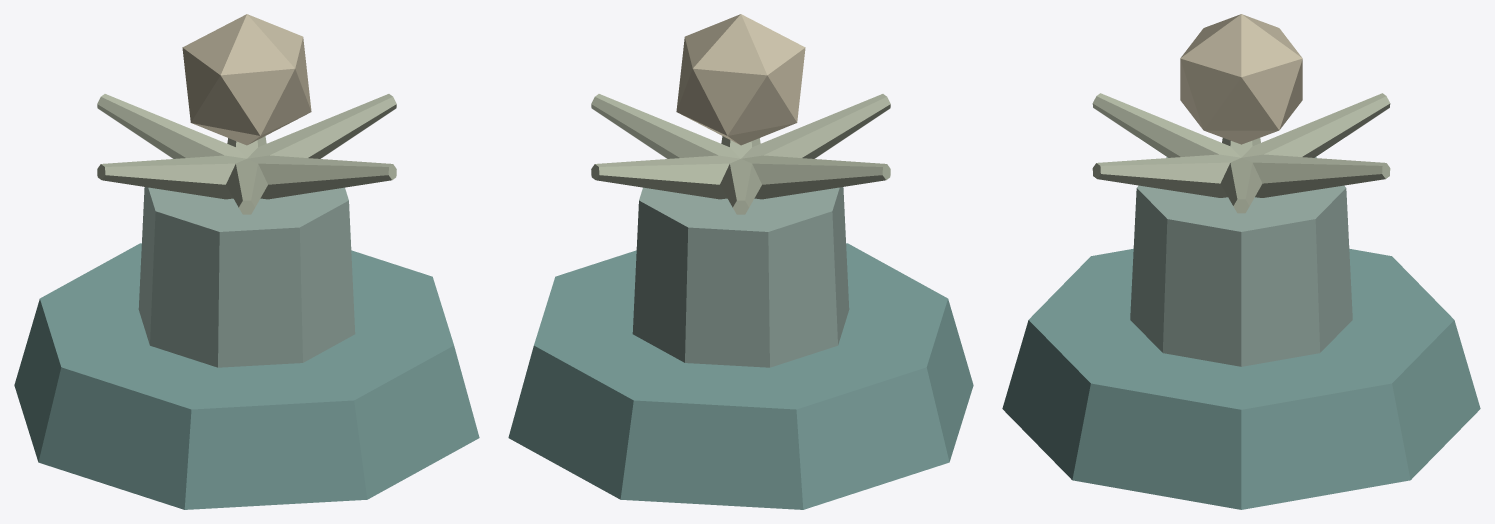
The model's file is map-exclusive-v3__tide_05.glb.
3 renders of one model, left to right at view 1: azimuth 30°, elevation 25°; view 2: azimuth 150°, elevation 25°; view 3: azimuth 270°, elevation 25°, orthographic.
Visible parts, largest first — view 1: tide_05; view 2: tide_05; view 3: tide_05.
Boxes of the visible parts, <box> form: tide_05: <box>14,14,479,509</box>; tide_05: <box>508,14,973,509</box>; tide_05: <box>1002,14,1480,509</box>.
Size of the model in its own units: 1.46 by 1.33 by 1.46.
